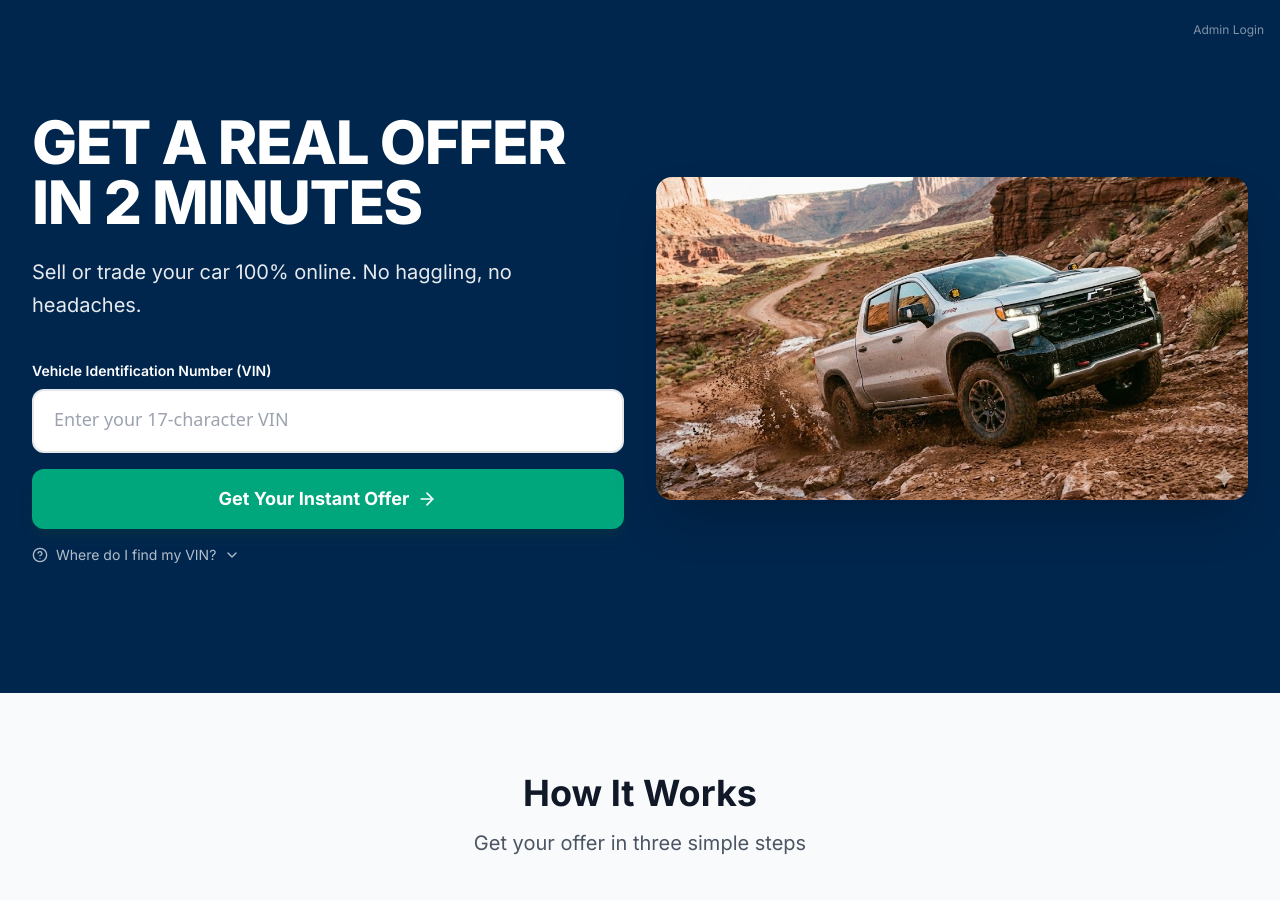
it: HomePage › VIN help section › toggles VIN help when clicking help button
This screenshot has width=1280, height=900.
Click to show
Click the button "Where do I find my VIN?" at (136, 555), box 32,545 -> 240,565
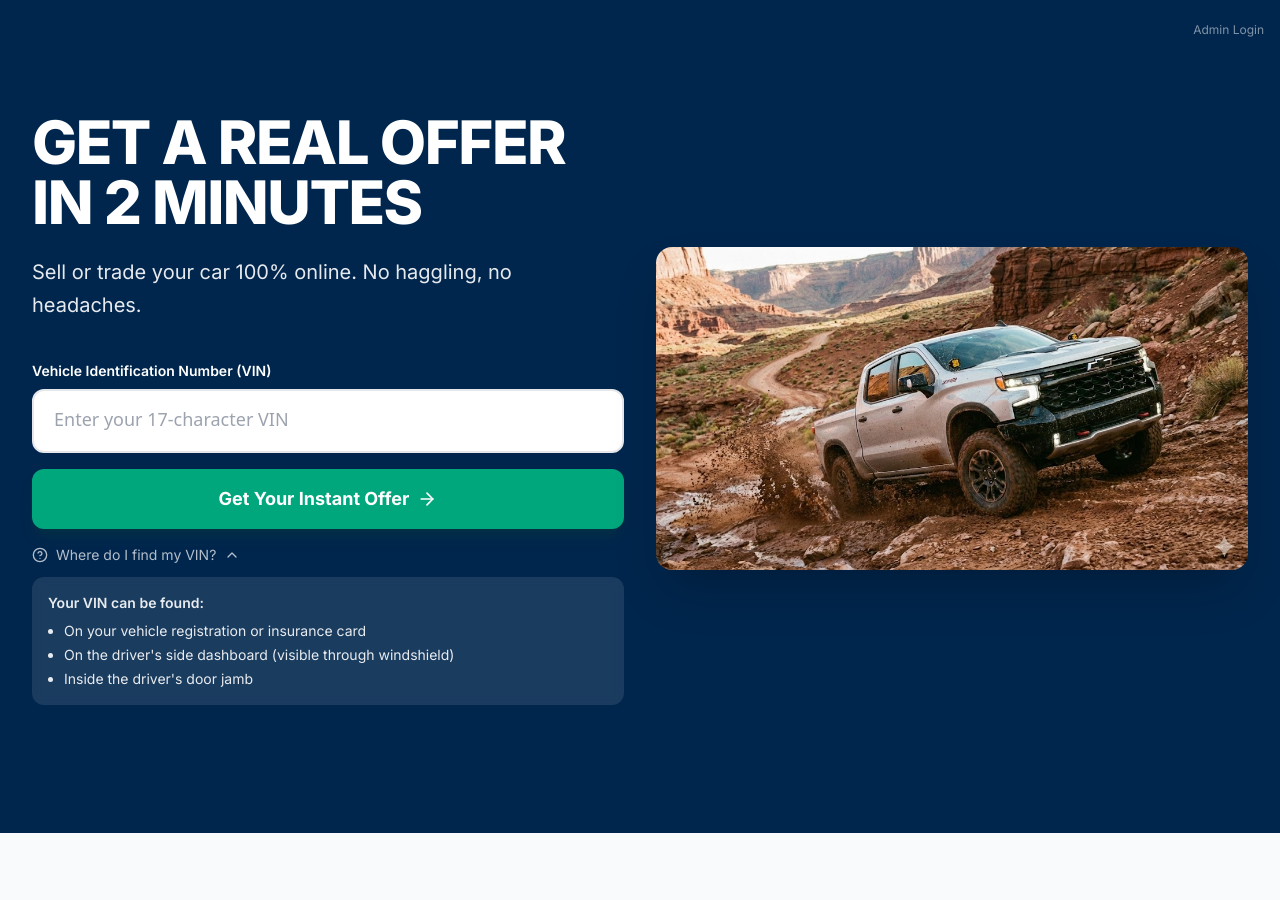
Check: the list item "On the driver's side dashboard (visible through windshield)" is shown, box 64,646 -> 454,663
Click to hide
Click the button "Where do I find my VIN?" at (136, 555), box 32,545 -> 240,565
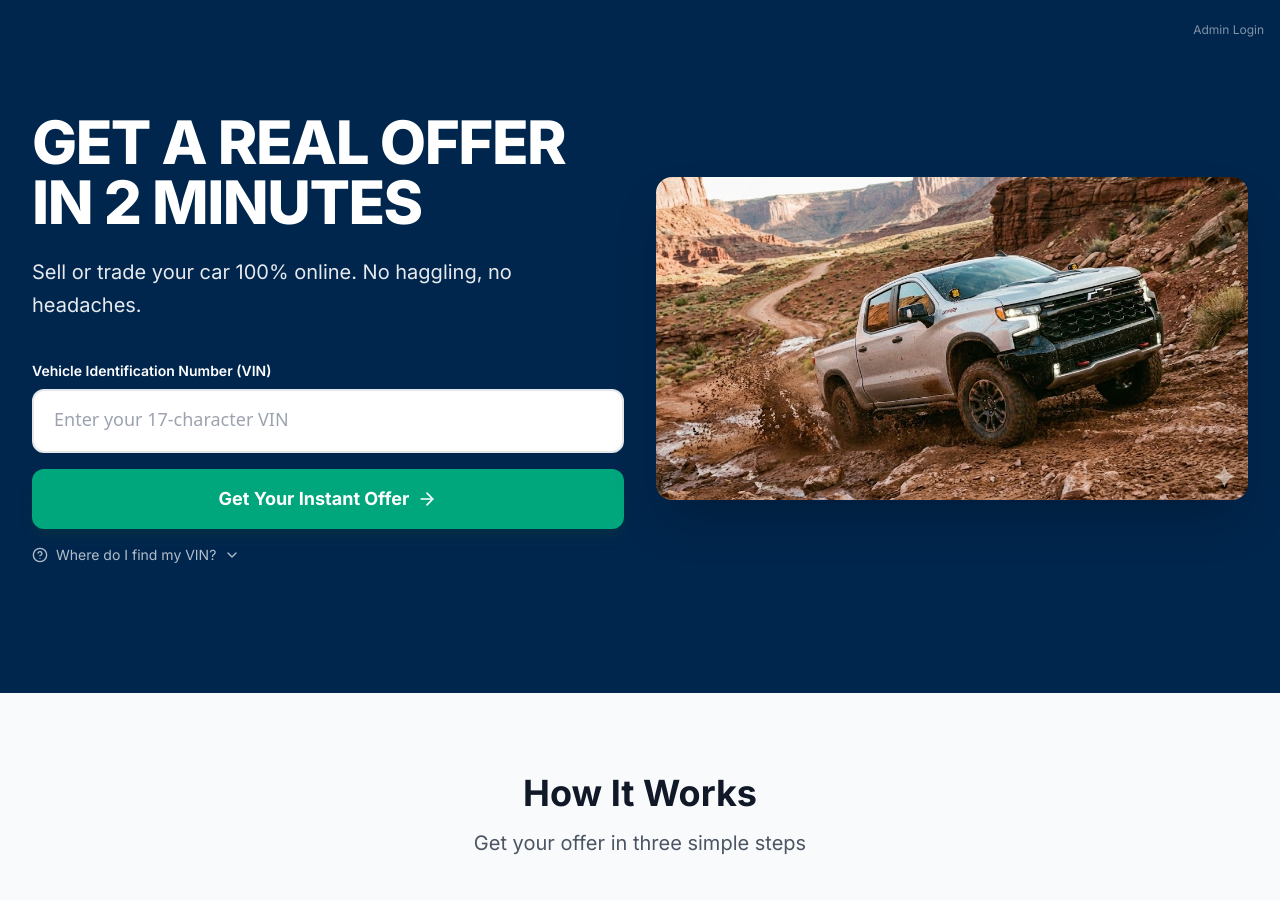
Check: the list item "On the driver's side dashboard (visible through windshield)" is gone
